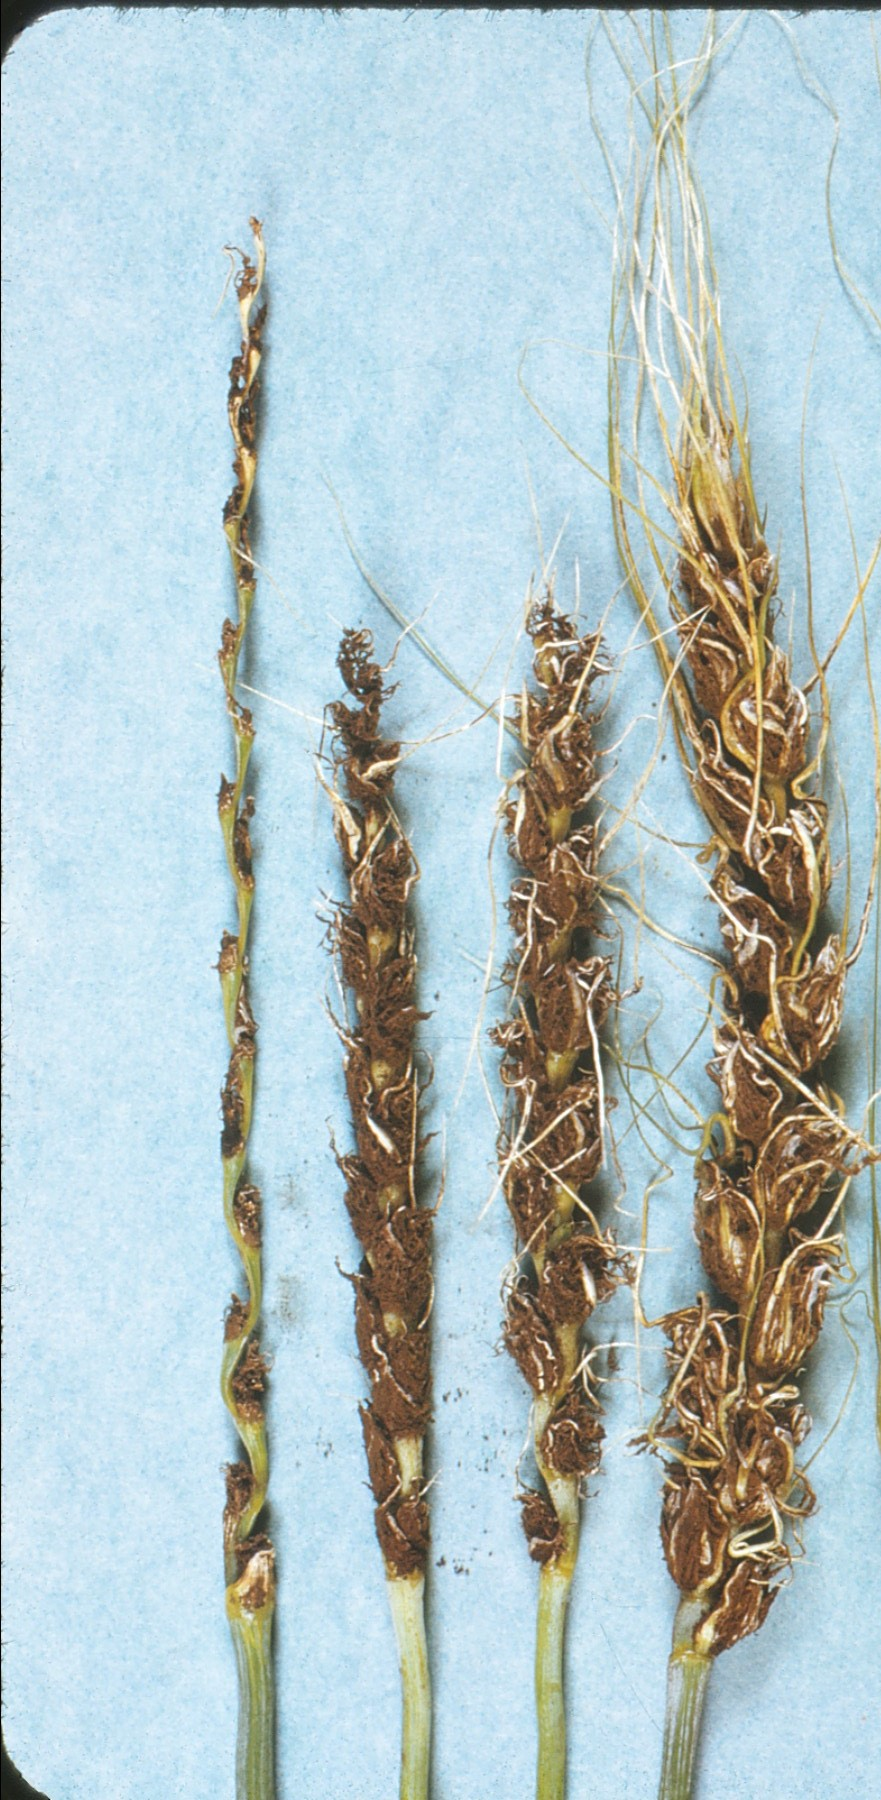Wheat Loose Smut: (277, 517, 860, 1686)
